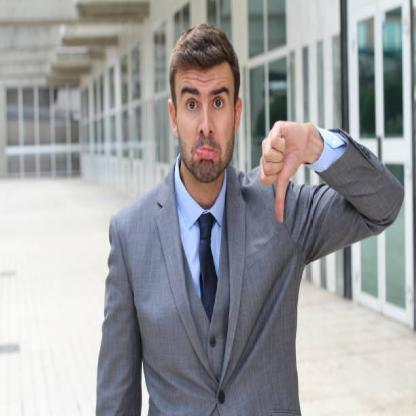thumb_down: (258, 116, 310, 224)
